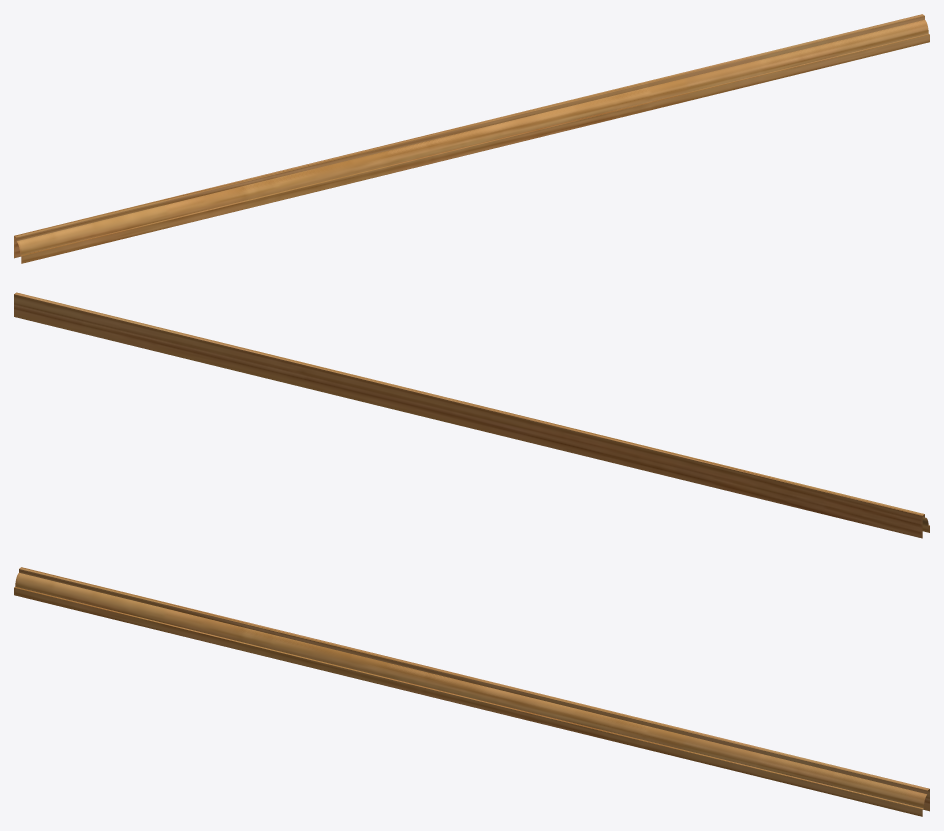
File: original-228.obj
The picture shows the model from 3 angles, top to bottom: view 1: azimuth 30°, elevation 25°; view 2: azimuth 150°, elevation 25°; view 3: azimuth 330°, elevation 25°; orthographic projection.
Parts seen in each view (by area): view 1: instance_170/Profil_mouluré_1/ID634#ID634; view 2: instance_170/Profil_mouluré_1/ID634#ID634; view 3: instance_170/Profil_mouluré_1/ID634#ID634.
Boxes of the visible parts, x1,y1,x2,y2 form: instance_170/Profil_mouluré_1/ID634#ID634: (14,14,929,263); instance_170/Profil_mouluré_1/ID634#ID634: (14,292,929,538); instance_170/Profil_mouluré_1/ID634#ID634: (14,567,929,816).
Bounding box in the file's own units: 0.4856 × 0.0116 × 0.00694.
